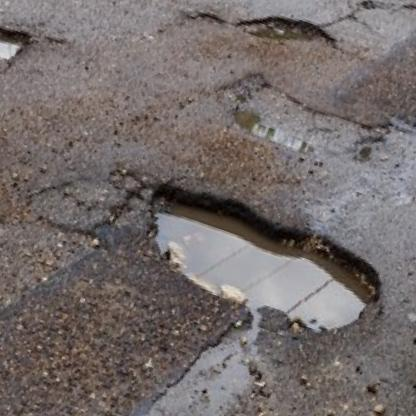pothole: (127, 172, 394, 348), (199, 58, 372, 175), (238, 2, 333, 59), (0, 7, 33, 69), (194, 9, 222, 26)
